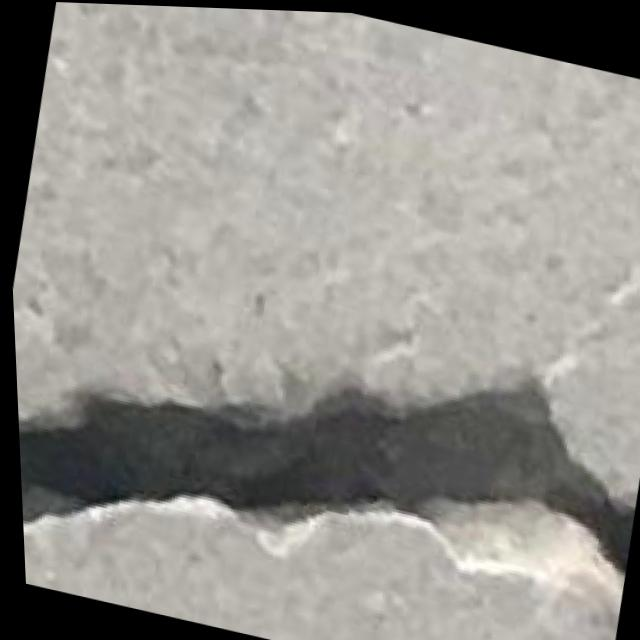Crack: (8, 241, 640, 640)
